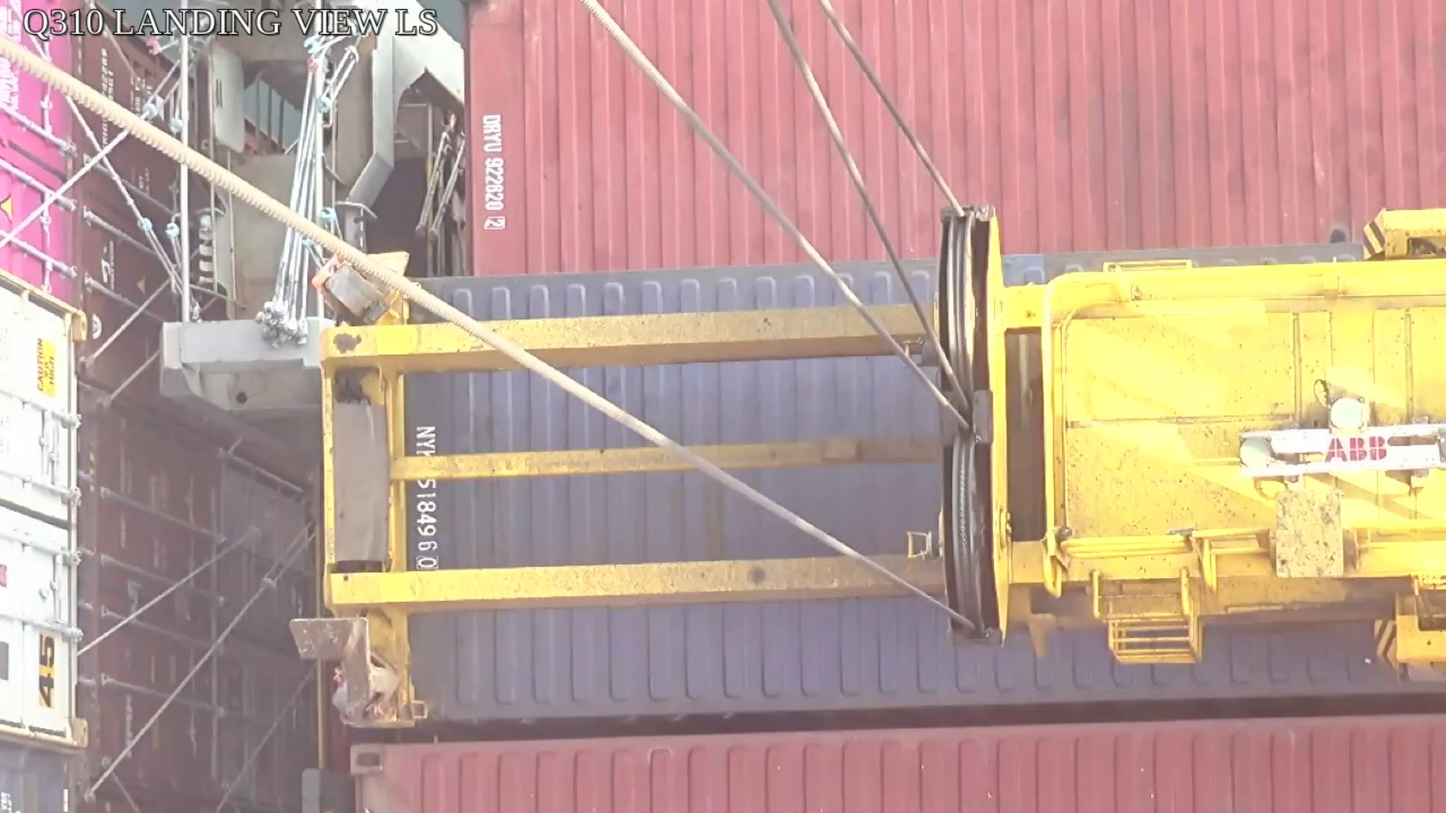aa: (935, 205, 1016, 644)
